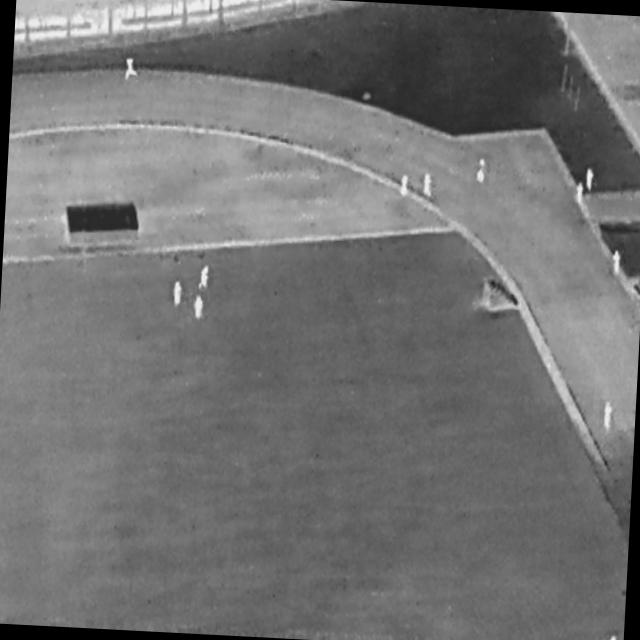person: (604, 402, 615, 432), (126, 60, 140, 83), (200, 265, 211, 291), (173, 281, 184, 307), (194, 296, 205, 321), (477, 159, 488, 184), (424, 174, 434, 199), (586, 169, 595, 193), (613, 252, 622, 276), (401, 177, 410, 198), (576, 184, 585, 205), (606, 636, 618, 640)
